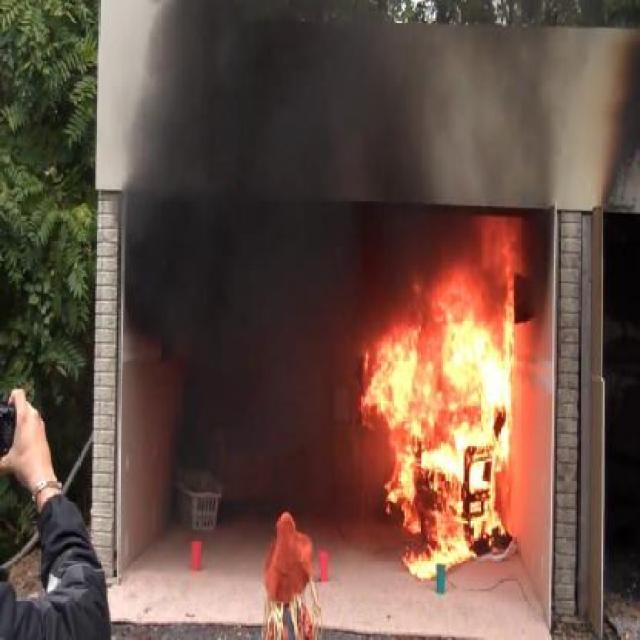fire: (354, 210, 528, 590)
smoke: (123, 187, 314, 507), (146, 17, 408, 223)
